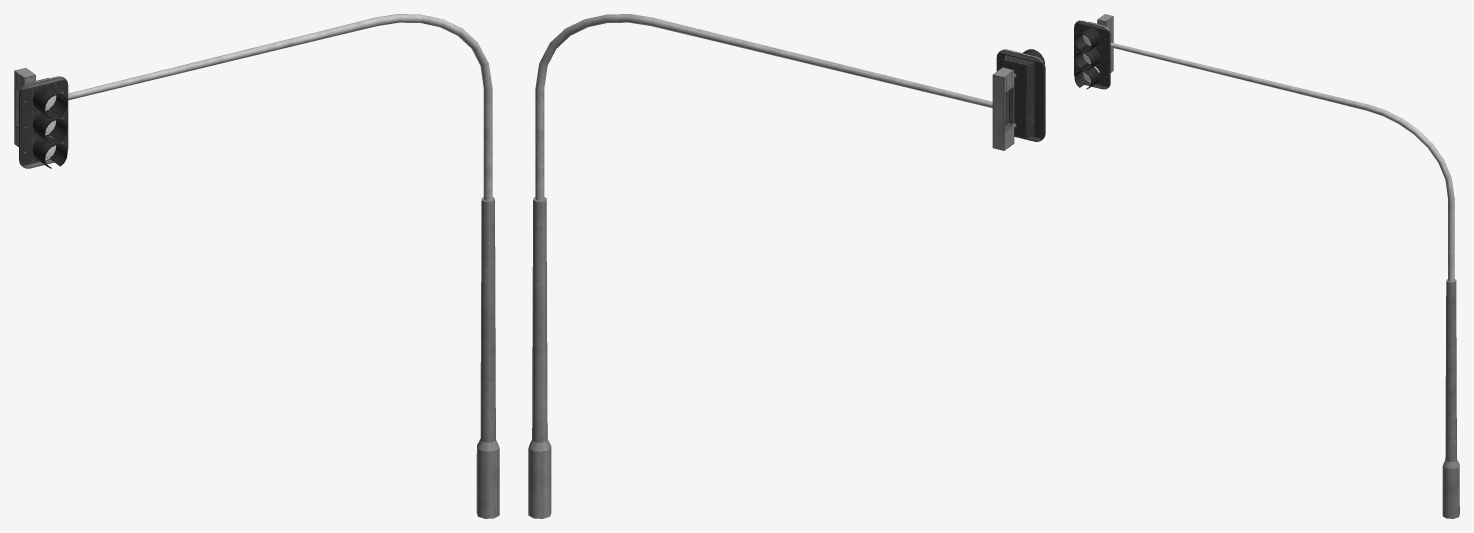
The model's file is PW_Traffic_light_05.fbx.
The picture shows the model from 3 angles, left to right: view 1: azimuth 30°, elevation 25°; view 2: azimuth 150°, elevation 25°; view 3: azimuth 330°, elevation 25°; orthographic projection. The views are drawn at different scales.
Parts seen in each view (by area): view 1: PW_Traffic_light_05_LOD0; view 2: PW_Traffic_light_05_LOD0; view 3: PW_Traffic_light_05_LOD0.
Part boxes in pixels (x1,y1,x2,y2): PW_Traffic_light_05_LOD0: (14, 14, 499, 518); PW_Traffic_light_05_LOD0: (528, 14, 1045, 518); PW_Traffic_light_05_LOD0: (1074, 14, 1459, 518).
Size of what is drawn, in the model's own units: 636 by 685 by 81.47.
